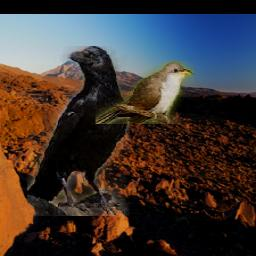Crow: (27, 46, 130, 216)
Cuckoo: (96, 62, 193, 125)
